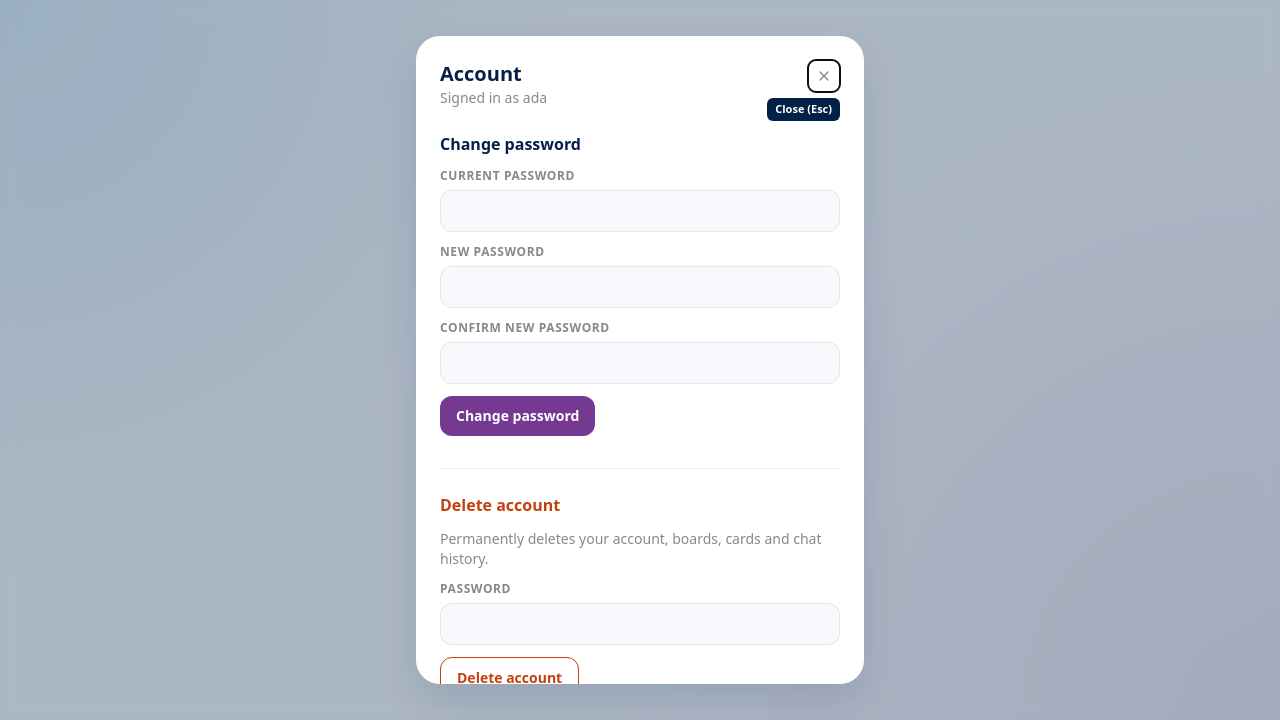
Test: AccountDialog › shows the server's reason when the password cannot be changed
The image size is (1280, 720).
In the password field labelled "Current password": (640, 211) [440,190,840,232], type "wrong"
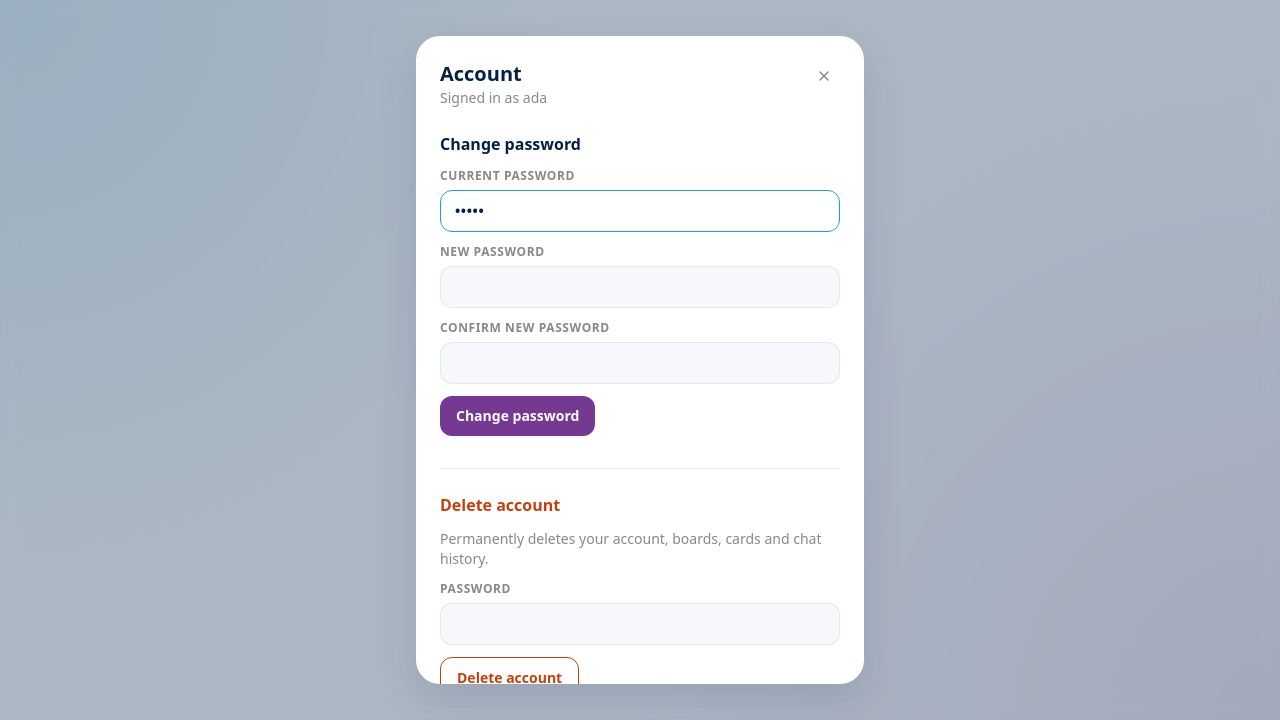
In the password field labelled "New password": (640, 287) [440,266,840,308], type "new password"
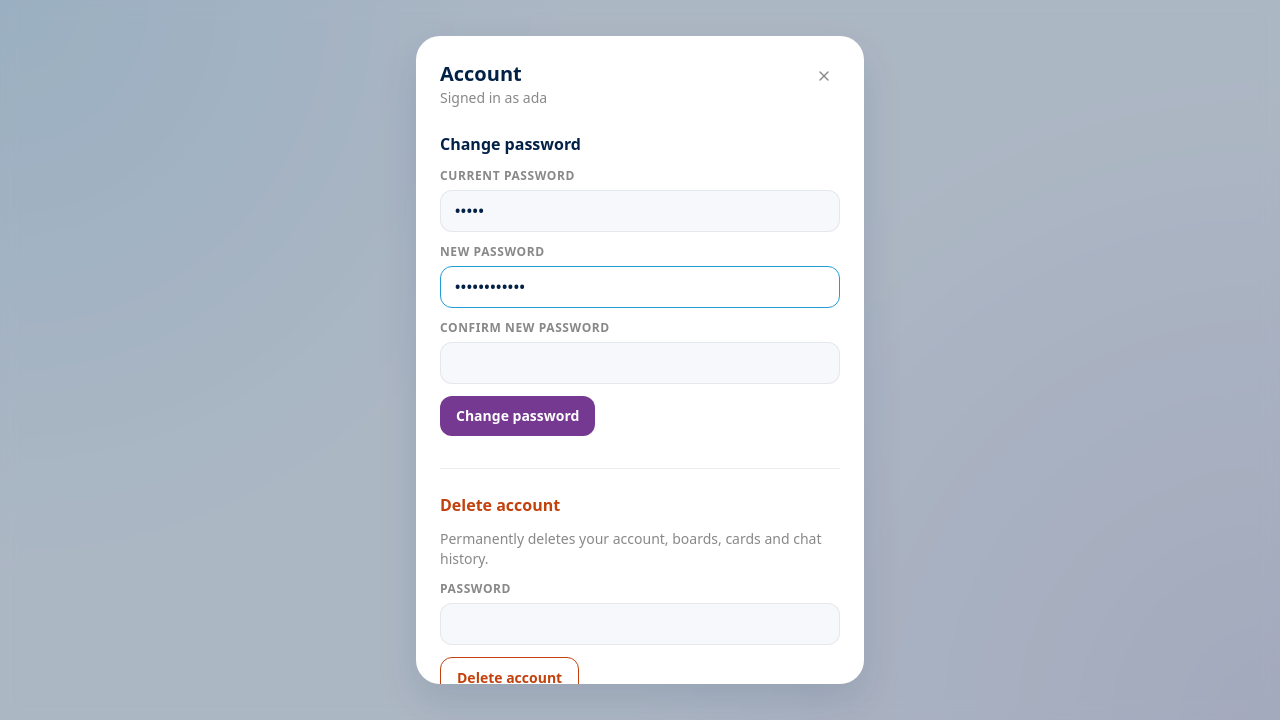
In the password field labelled "Confirm new password": (640, 363) [440,342,840,384], type "new password"
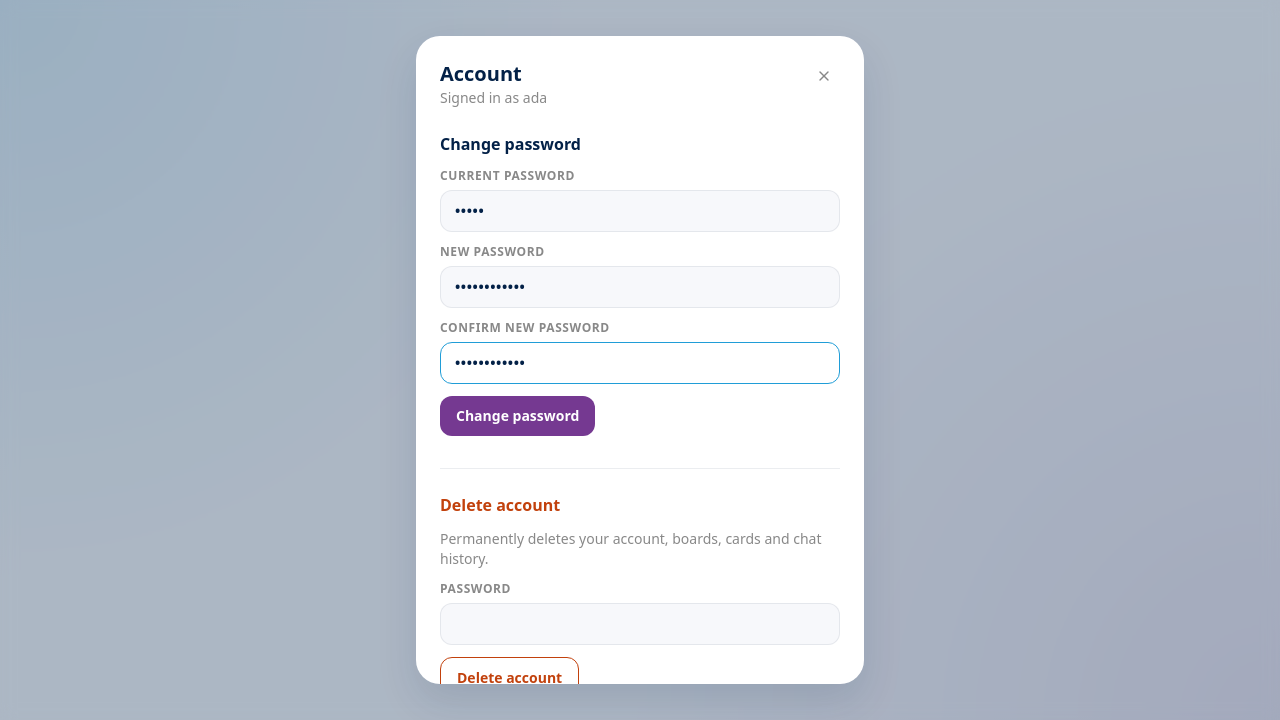
Click the button "Change password": click(518, 416) [440,396,595,436]
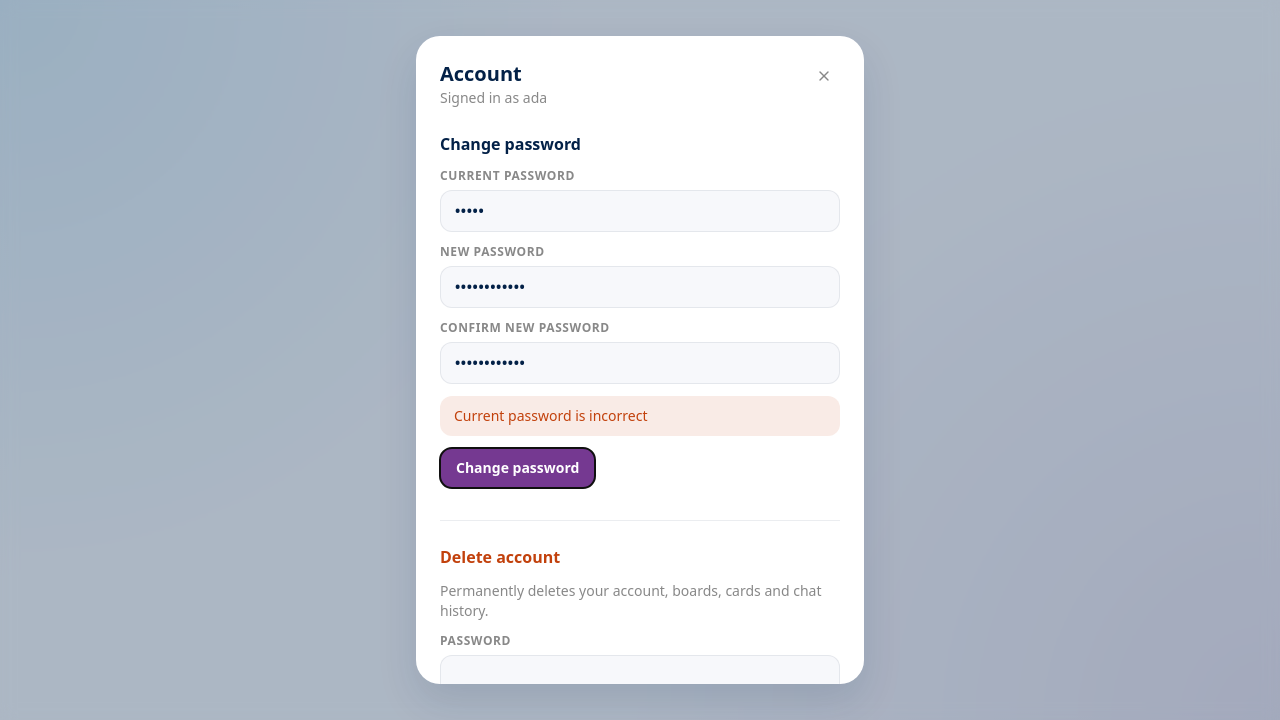
Result: the message reads "Current password is incorrect" at [454,406,648,425]
Click the button "Change password": click(518, 468) [440,448,595,488]
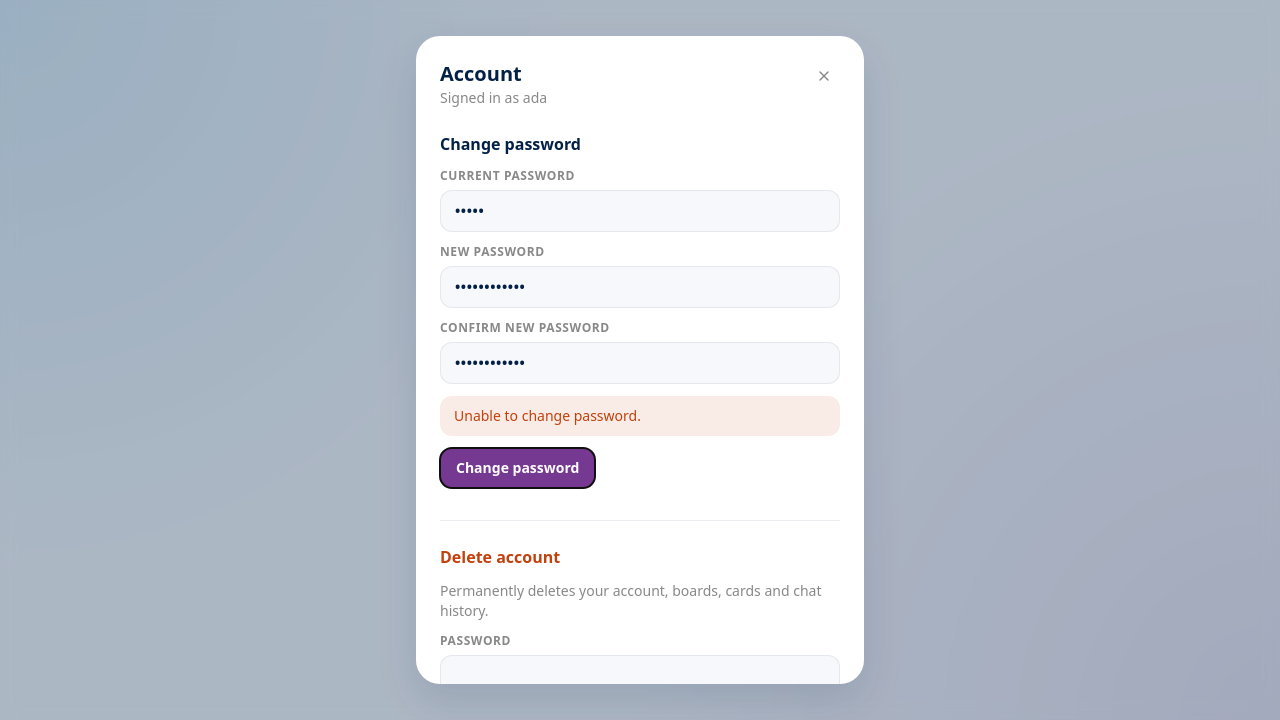
Result: the message reads "Unable to change password." at [454,406,641,425]
